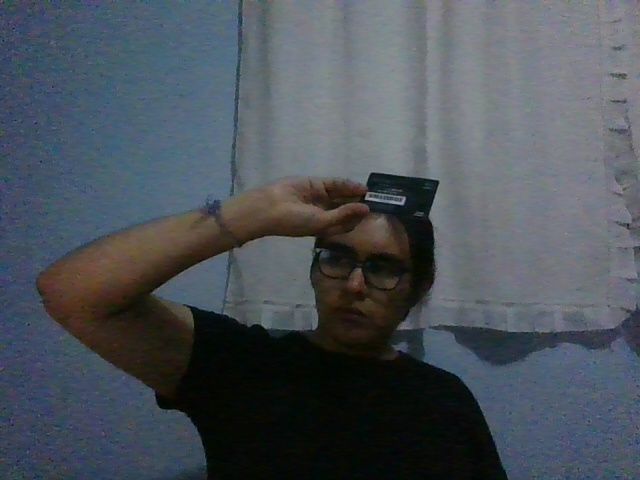tarjeta: (358, 172, 440, 222)
